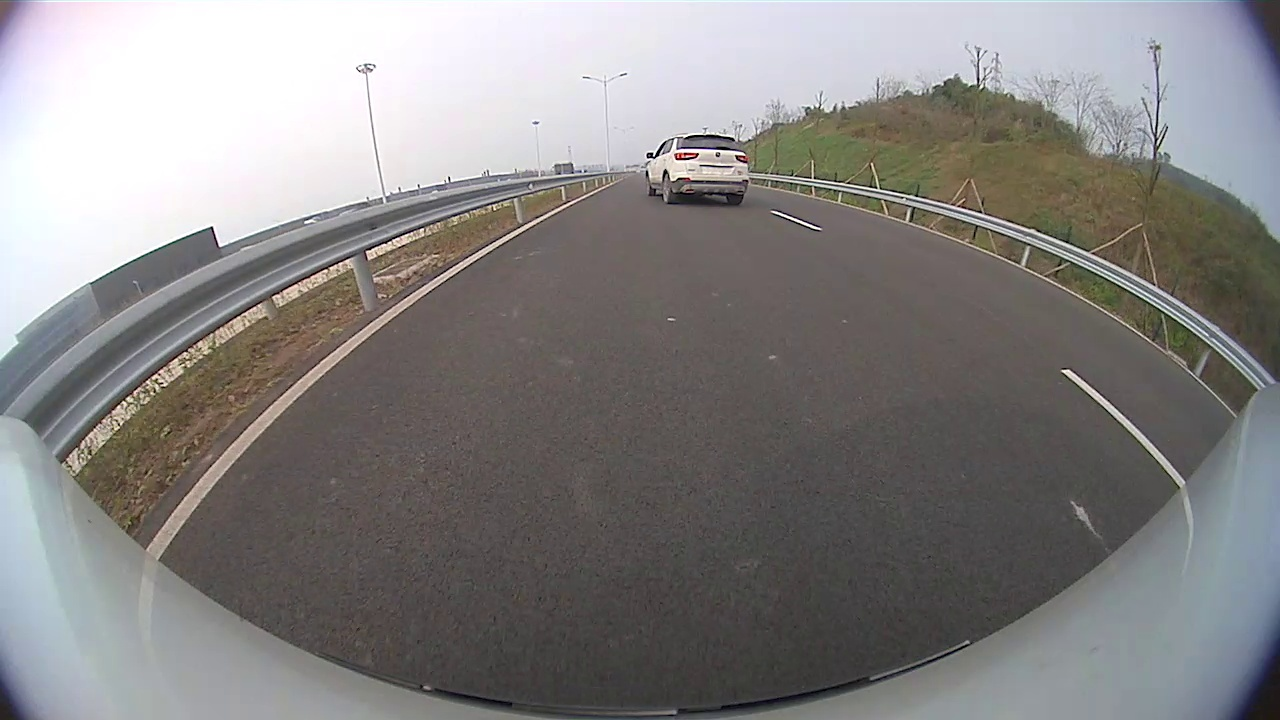car: (643, 132, 751, 205)
front: (645, 173, 656, 197)
rear: (661, 170, 677, 205)
